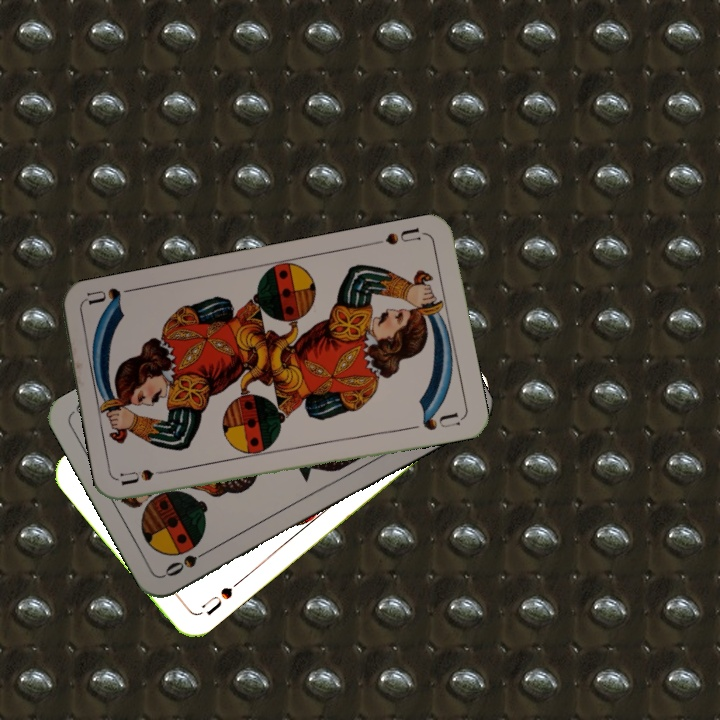SO: (160, 544, 215, 579)
SU: (197, 576, 244, 618), (117, 464, 177, 488), (381, 223, 427, 248)
